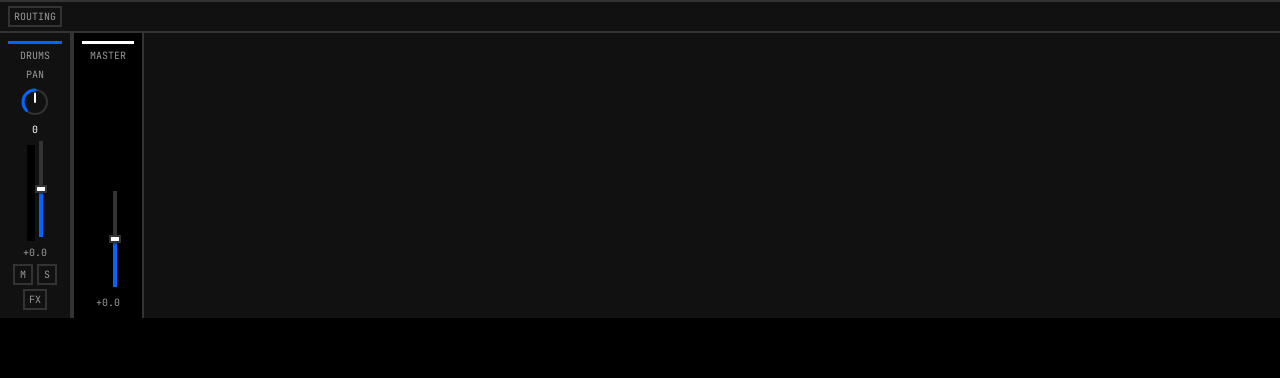
Test: MixerPanel › hides EffectsRack when FX button is clicked again
The width and height of the screenshot is (1280, 378).
Step 1. Click the button with aria-label "Toggle effects for Drums" → (35, 300), box [23,289,47,310]
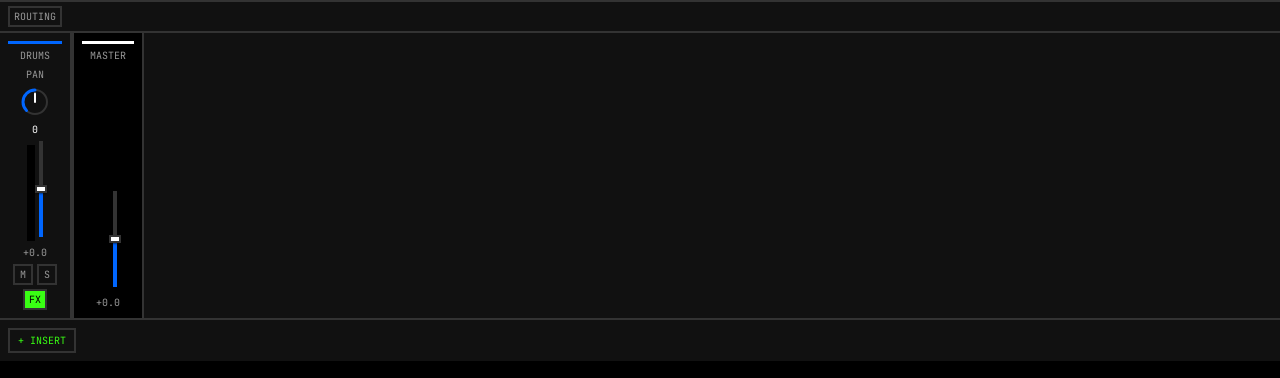
Expected: the element with test id "effects-rack" is shown, [0,318,1279,361]
Step 2. Click the button with aria-label "Toggle effects for Drums" → (35, 300), box [23,289,47,310]
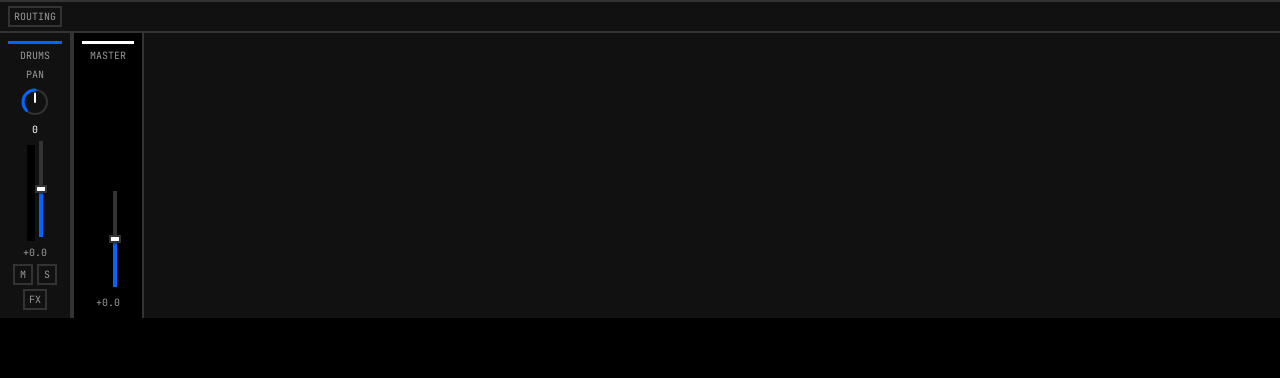
Expected: the element with test id "effects-rack" is gone
